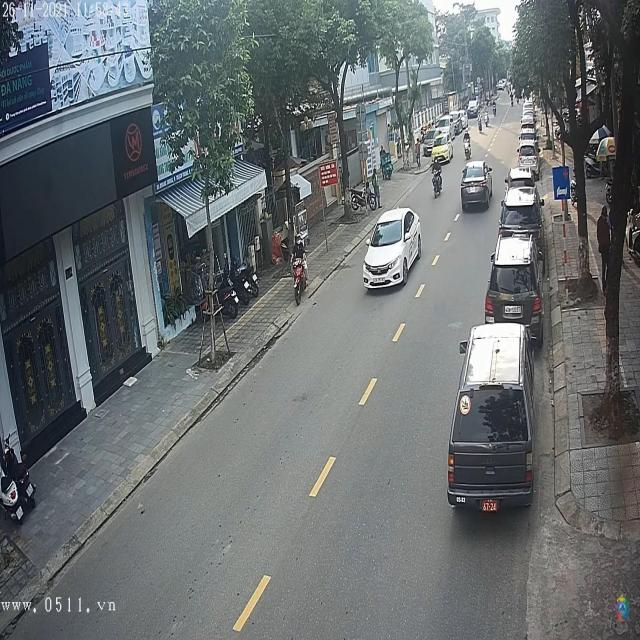car: (449, 321, 534, 510), (362, 208, 423, 293), (485, 252, 542, 337), (500, 190, 542, 238), (459, 161, 494, 215), (468, 99, 480, 118)
motorcycle: (292, 254, 310, 307), (433, 171, 444, 198)
